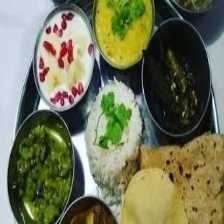roti: (135, 129, 224, 224)
